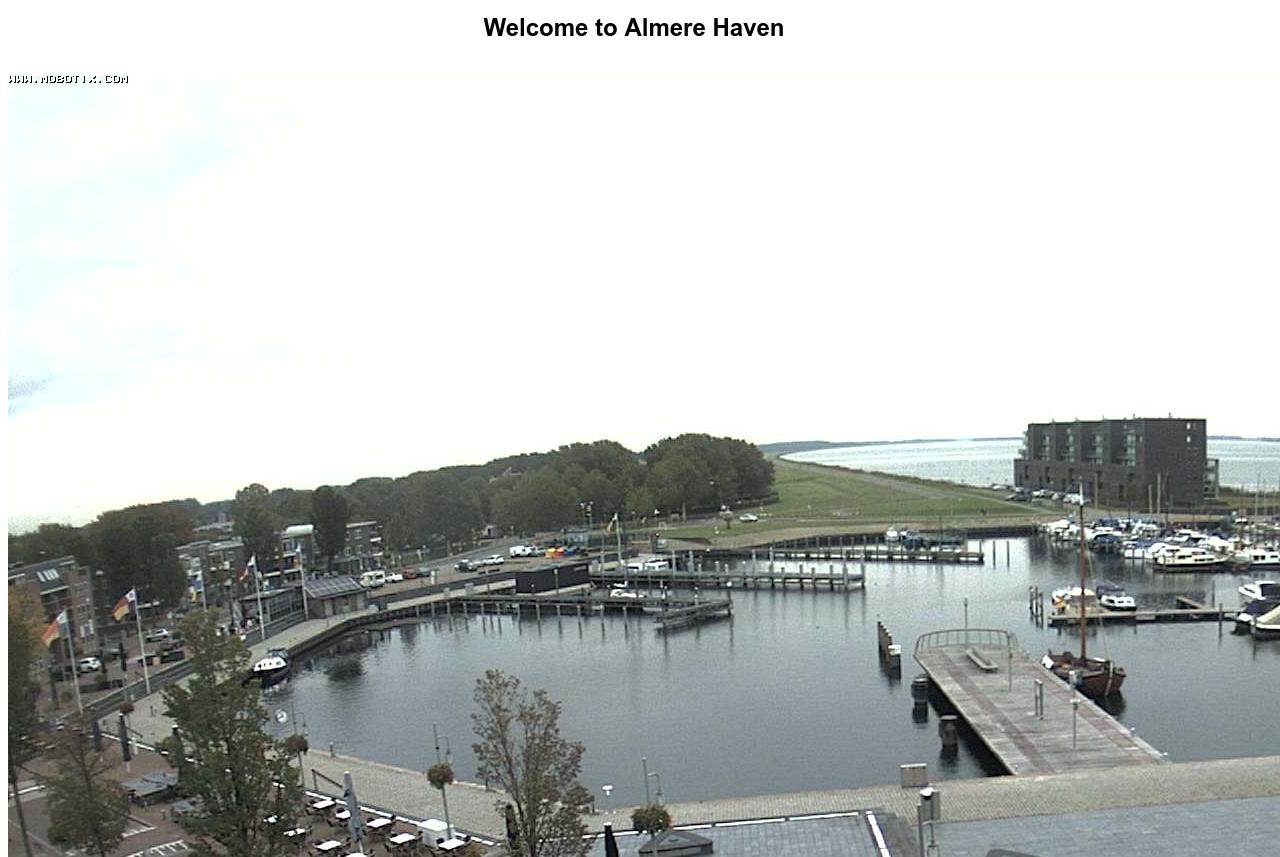maybe: (38, 609, 73, 645), (111, 585, 142, 621), (235, 555, 260, 581), (187, 565, 205, 596), (289, 542, 303, 564)
